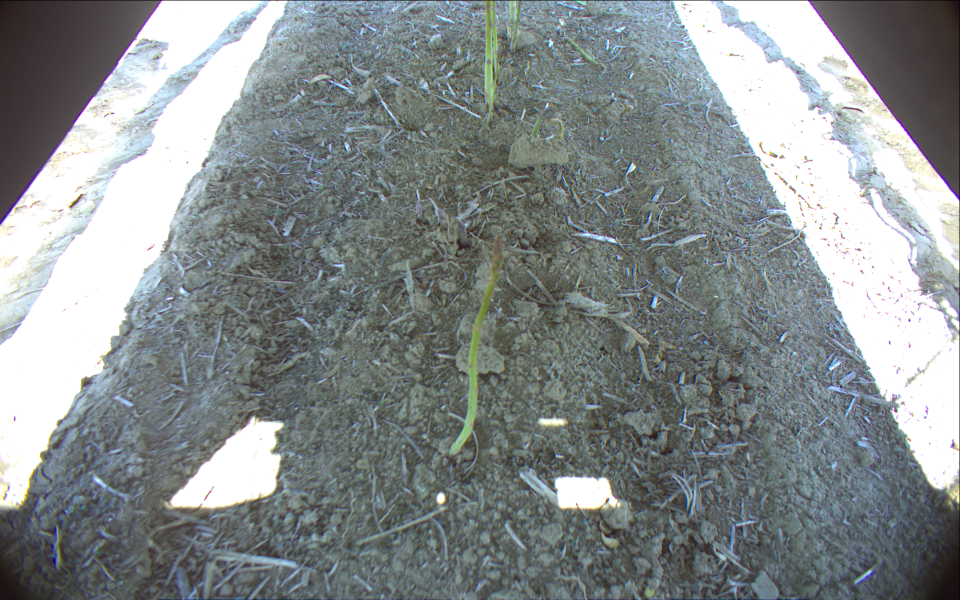aspa: (448, 236, 503, 460), (483, 1, 498, 110), (506, 1, 524, 51)
